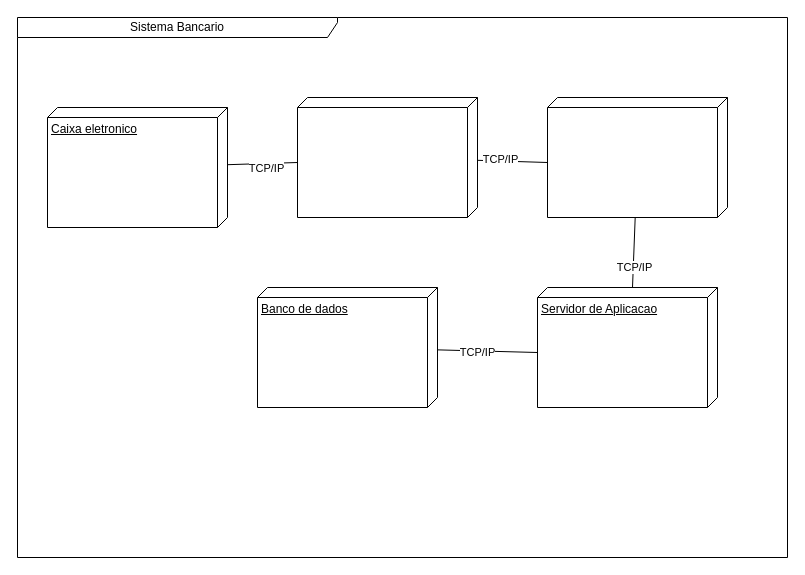
Some shapes in this 805 by 575 pixel diagram are drawn without their labels. The shapes that lost their labels are listed below. From the top down, each one's centre as x and y in pixels, then its label:
At pixel 387 157: "Firewall".
At pixel 637 157: "API Gateway".
